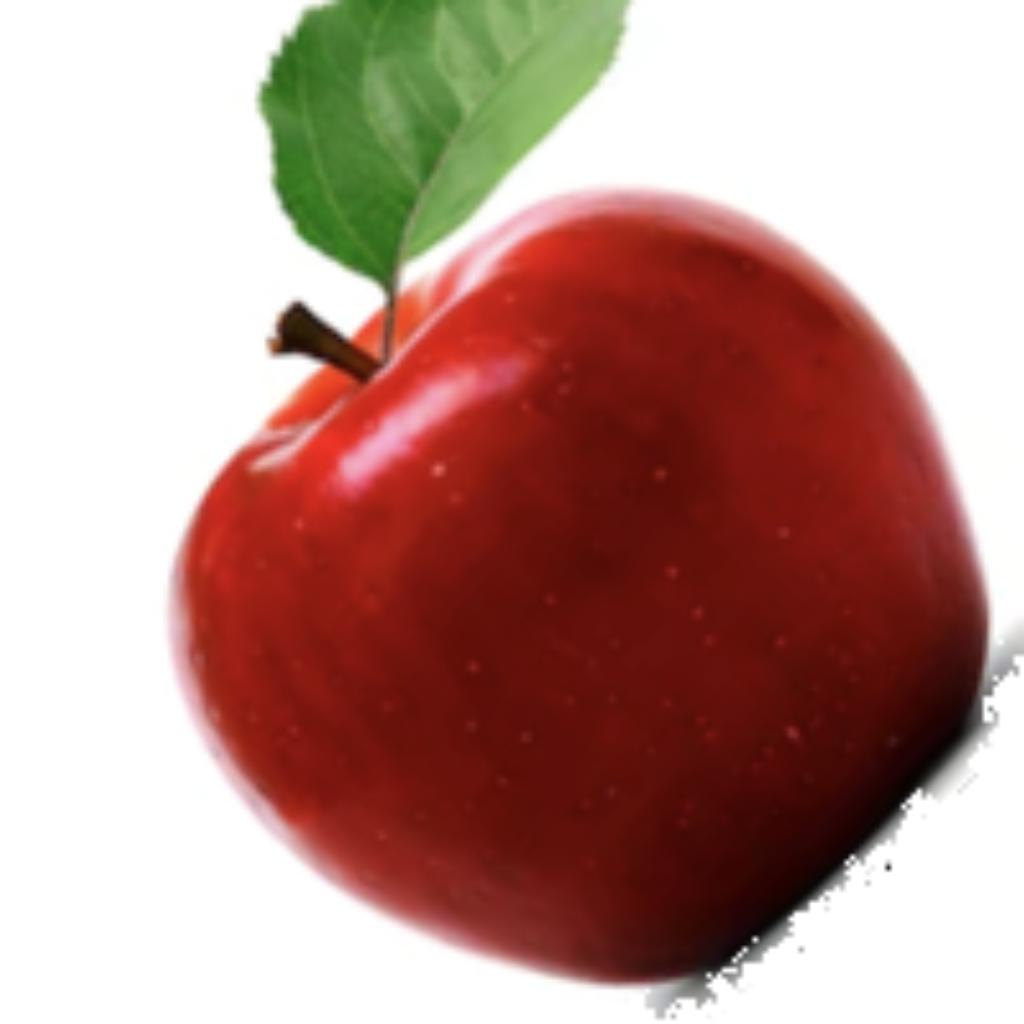apple: (159, 0, 1019, 1019)
